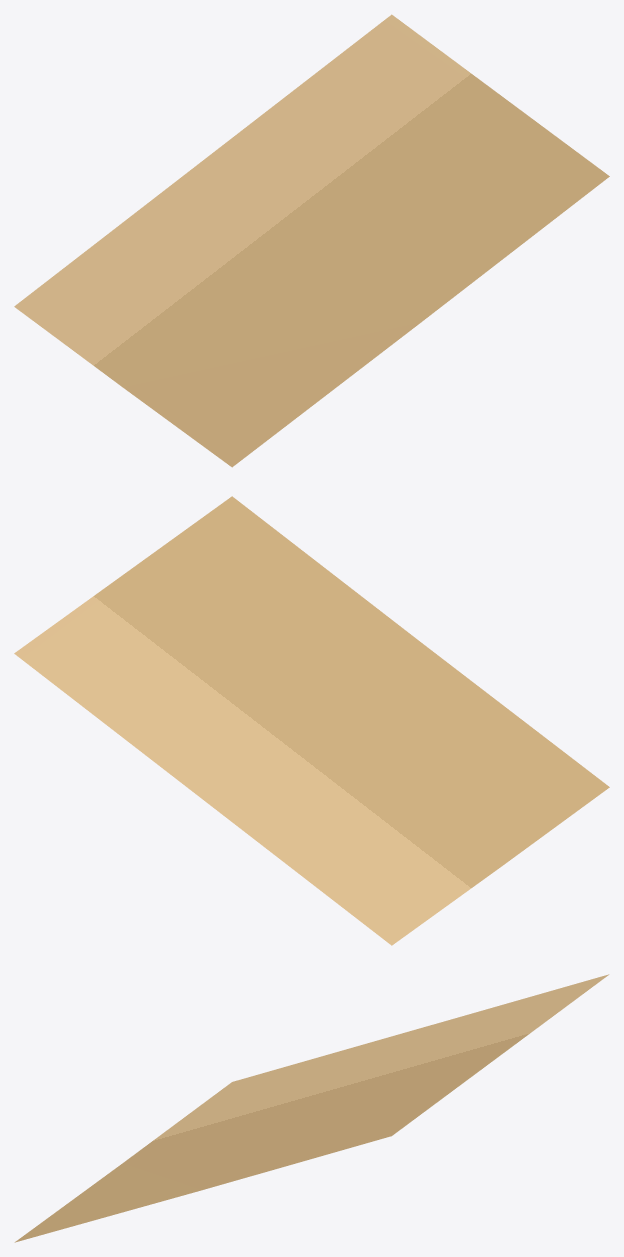
3 renders of one model, top to bottom at view 1: azimuth 30°, elevation 25°; view 2: azimuth 150°, elevation 25°; view 3: azimuth 330°, elevation 25°, orthographic.
Size of the model in its own units: 1 by 0.5088 by 1.
1 material, 1 textured.
